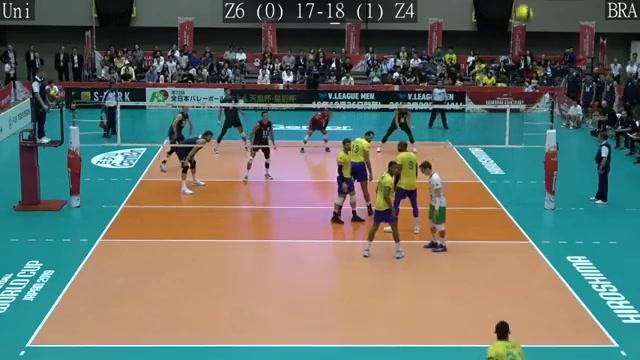ball: (513, 4, 539, 27)
